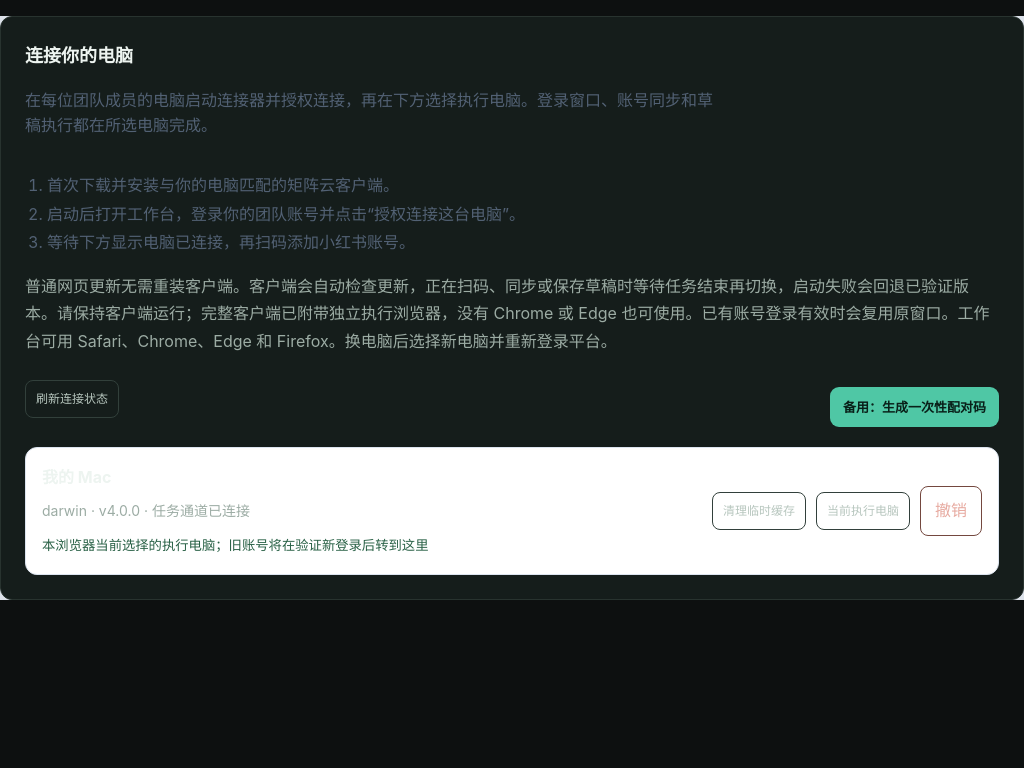
removes a revoked device immediately and ignores a stale in-flight device response
This screenshot has width=1024, height=768.
Click the button "撤销": (951, 511) [920,486,982,536]
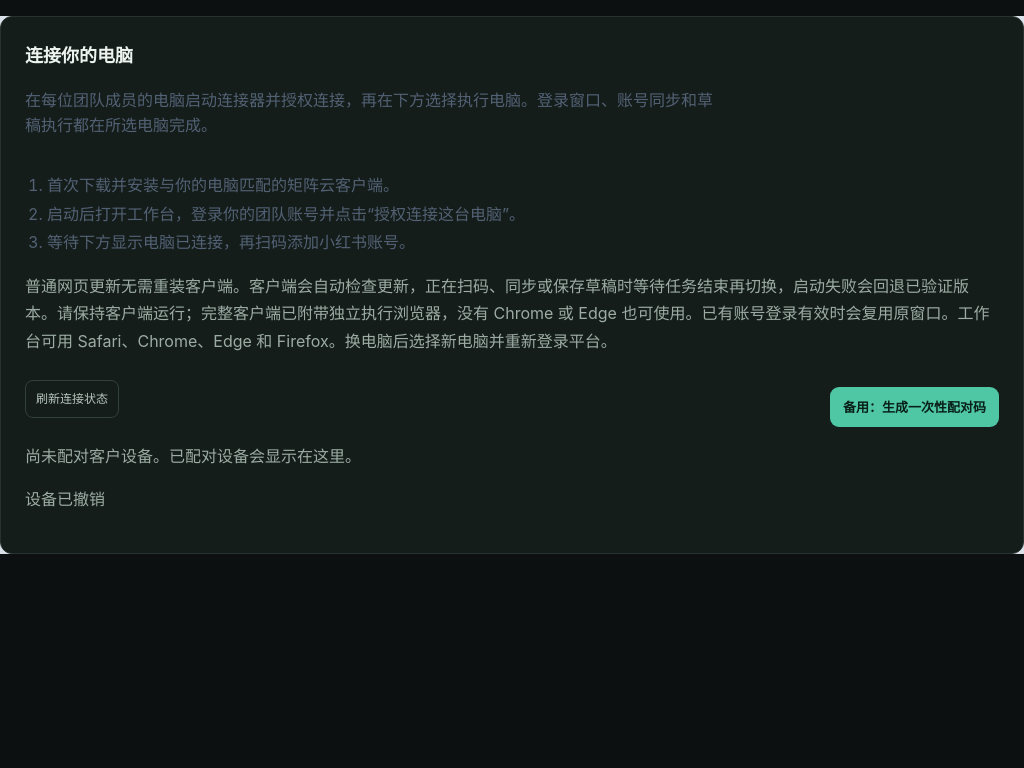
Check: the text "我的 Mac" is gone
